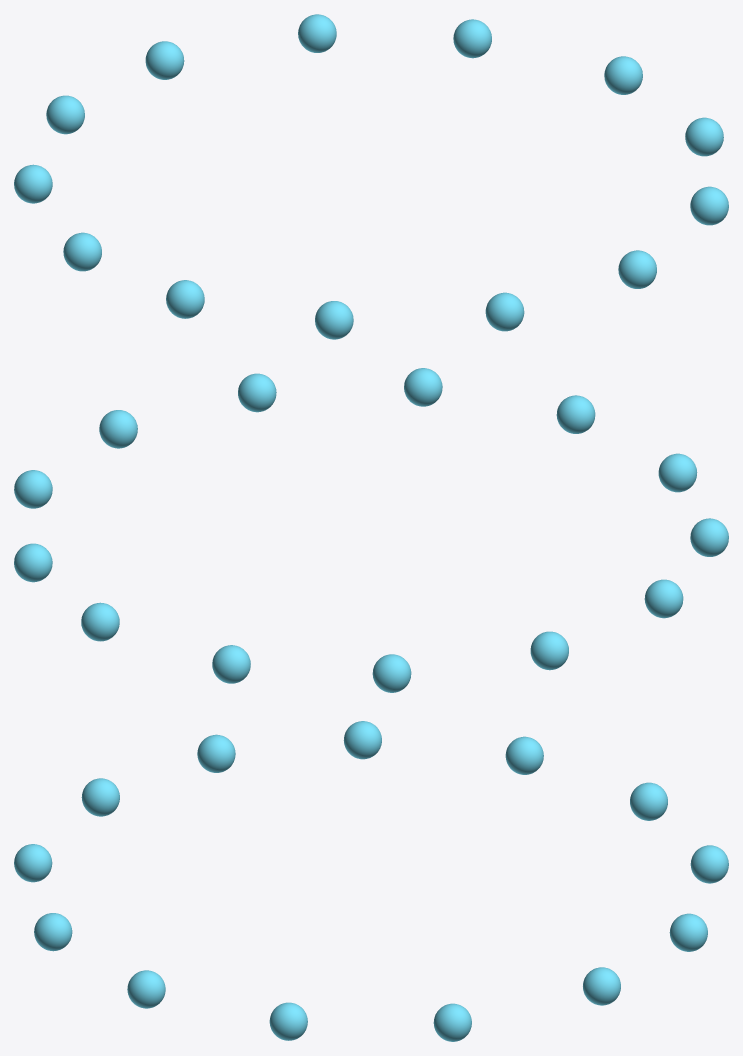
The picture shows the model from 3 angles, top to bottom: view 1: azimuth 30°, elevation 25°; view 2: azimuth 150°, elevation 25°; view 3: azimuth 270°, elevation 25°; orthographic projection.
Visible parts, largest first — view 1: Sphere049; view 2: Sphere049; view 3: Sphere049.
Part boxes in pixels (x1,y1,x2,y2): Sphere049: (14, 14, 728, 339); Sphere049: (14, 368, 728, 692); Sphere049: (14, 721, 728, 1041).
Bounding box in the file's own units: 152 × 8.22 × 153.
